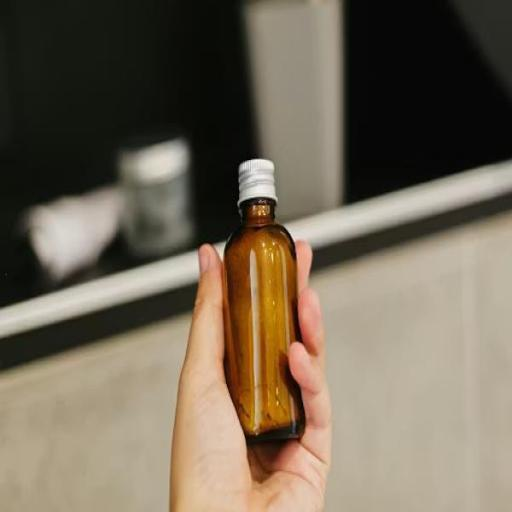bottle: (218, 150, 316, 442)
